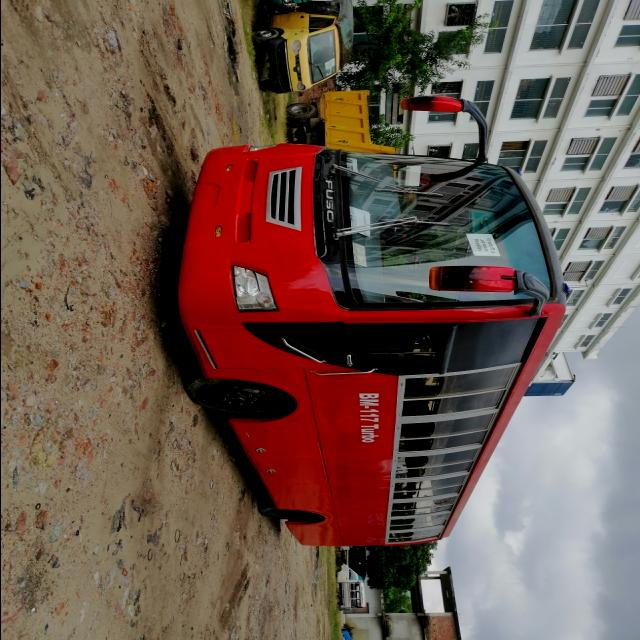bus: (143, 47, 605, 579)
